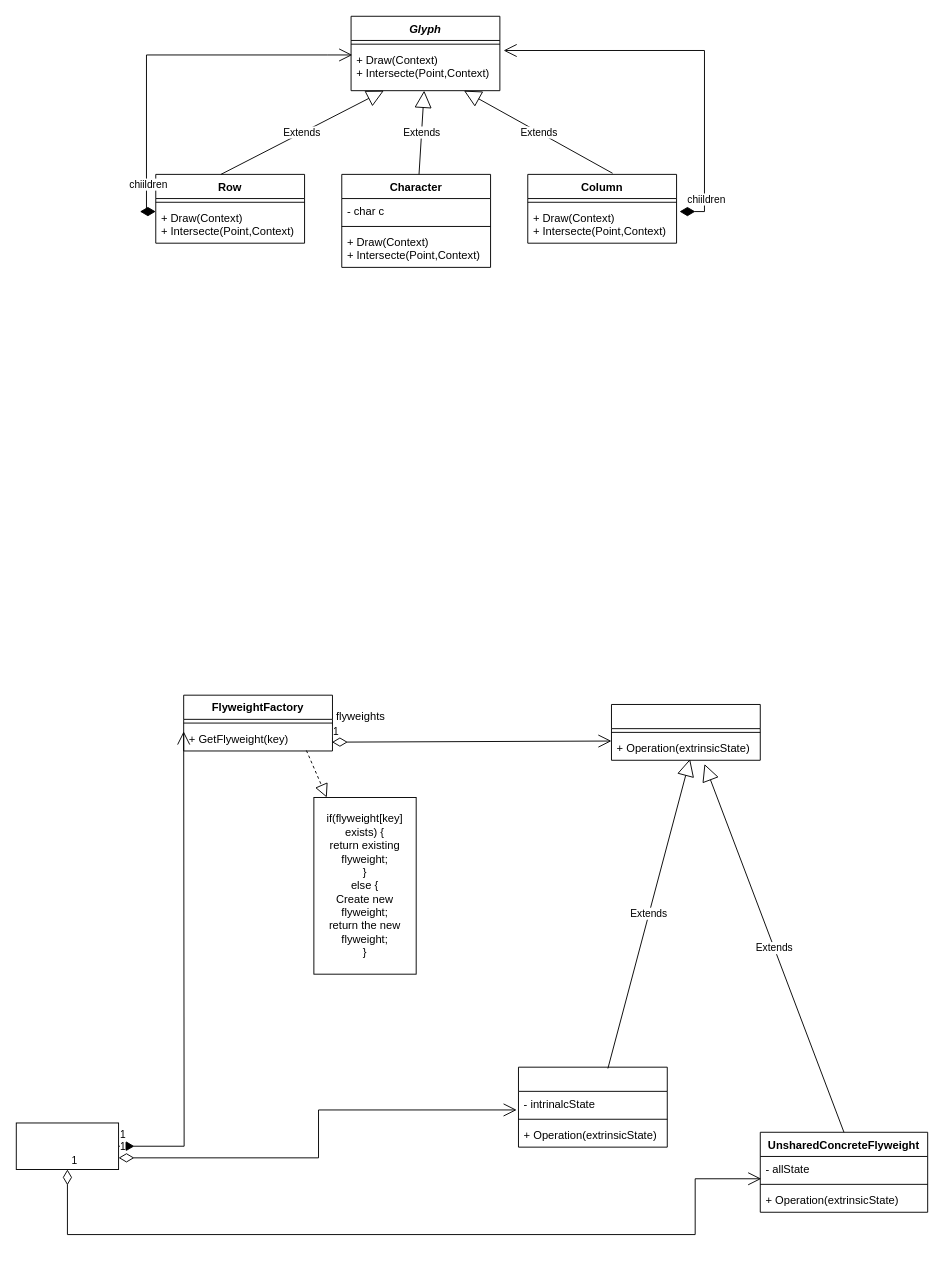
Some shapes in this 944 by 1267 pixel diagram are drawn without their labels. Each missing label, with the box of its shape:
Client: (15, 1122, 119, 1169)
ConcreteFlyweight: (518, 1066, 667, 1147)
Flyweight: (611, 704, 760, 760)
